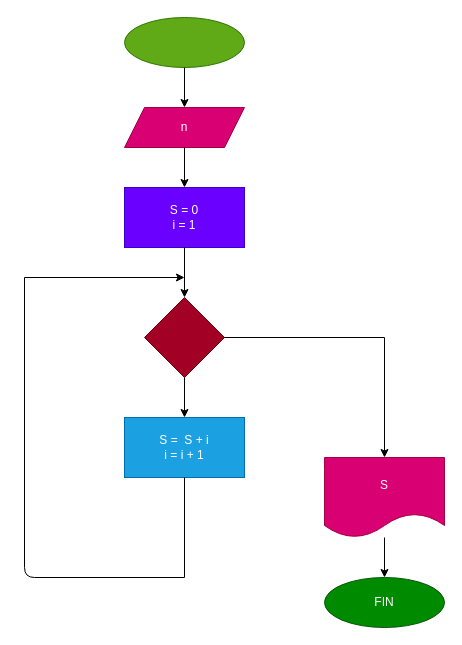
The diagram is 462 pixels wide and 645 high, and some of its shapes have lost their labels. The centre of each missing label's shape, as x and y in pixels:
i < = n: the point at 184,337
INICIO: the point at 184,42
